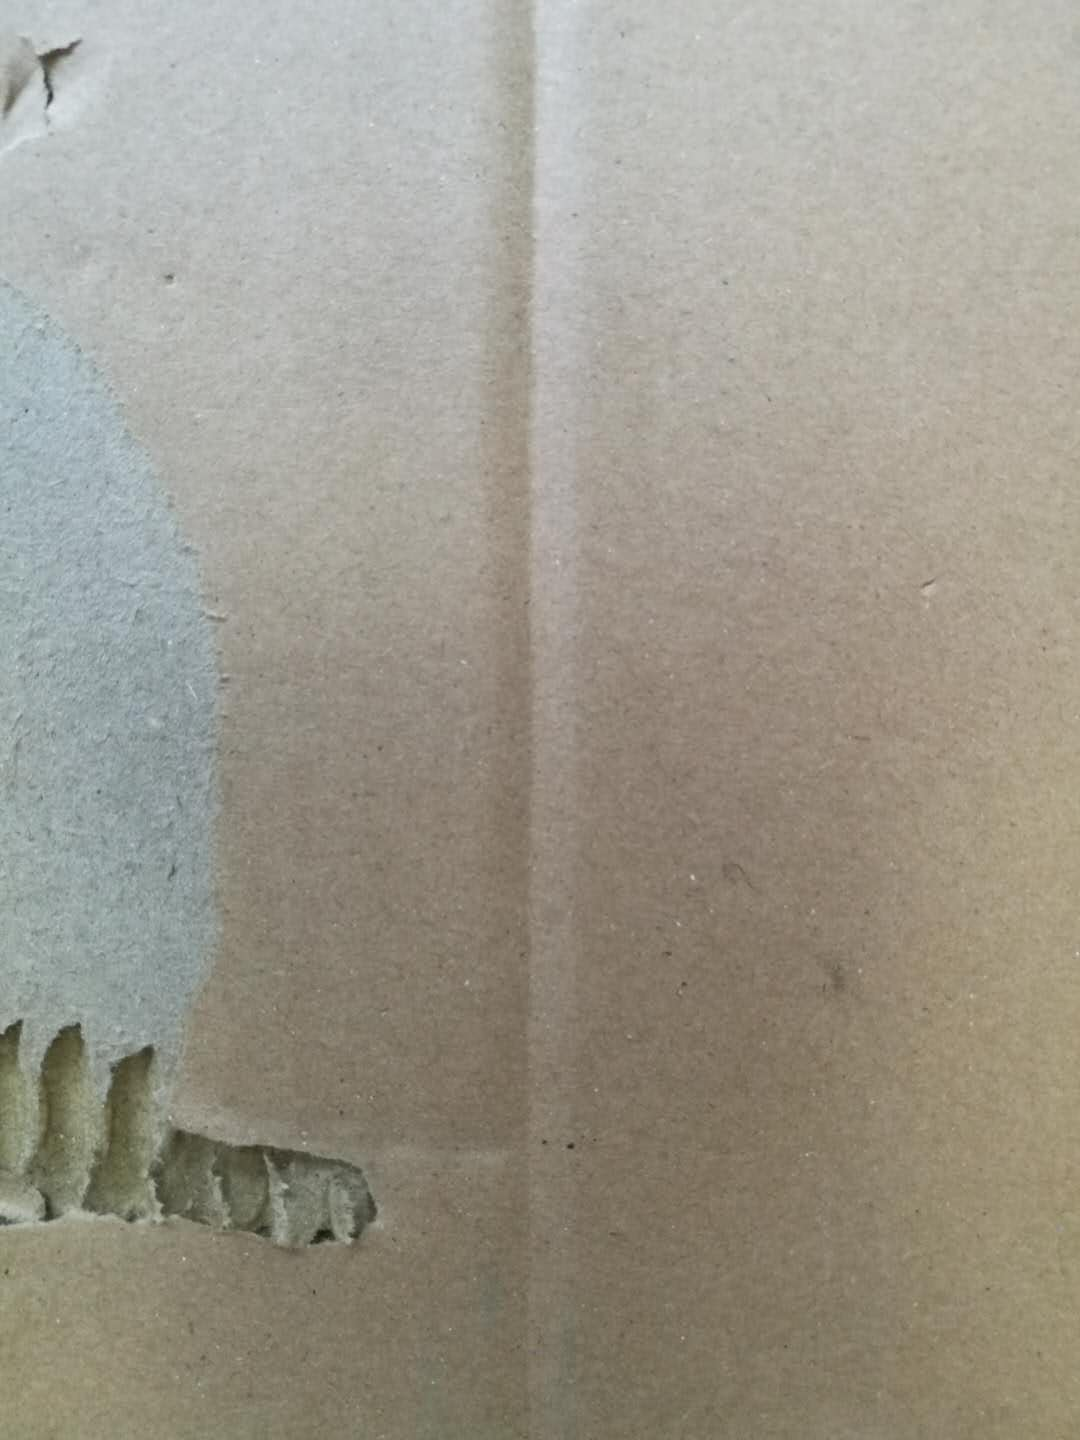defect: (2, 256, 420, 1285), (428, 5, 666, 1438), (2, 12, 113, 176)
